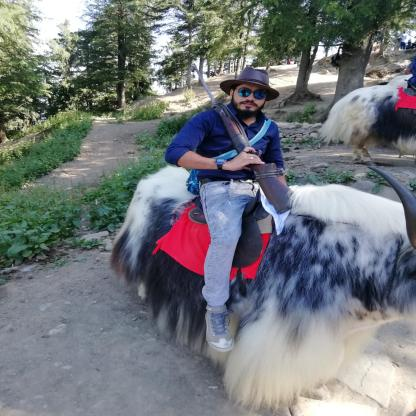rifle: (188, 62, 300, 216)
